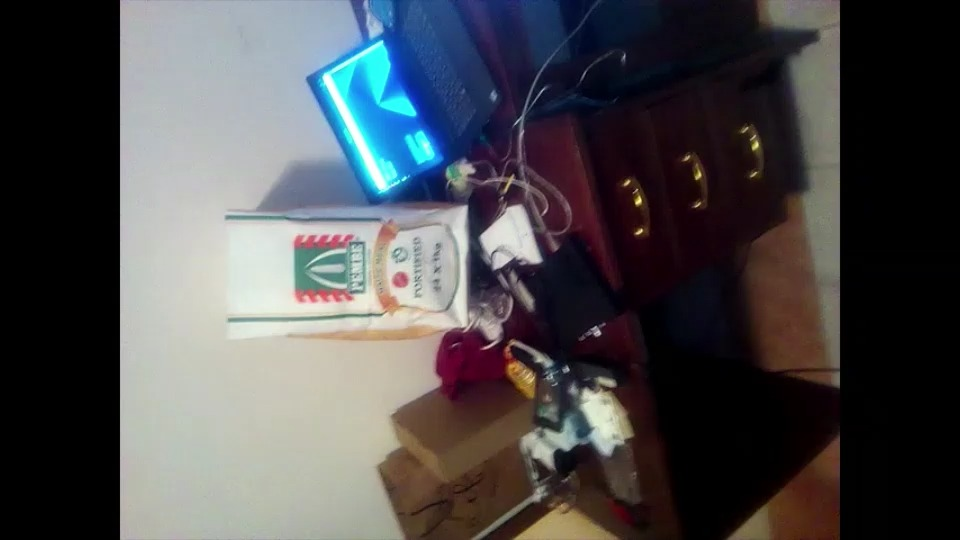maize_flour_green_label: (217, 210, 471, 330)
